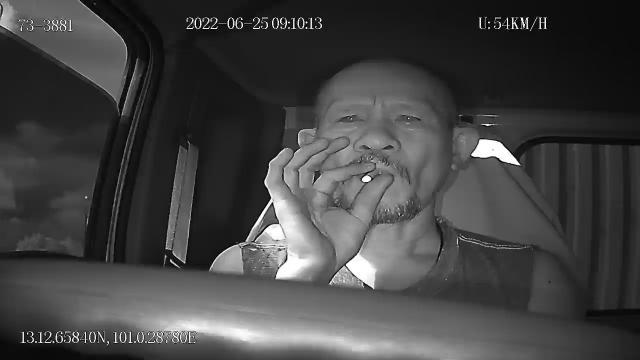SafeDriving: (388, 103, 430, 132), (329, 104, 369, 130)
Smoking: (362, 168, 378, 184)
